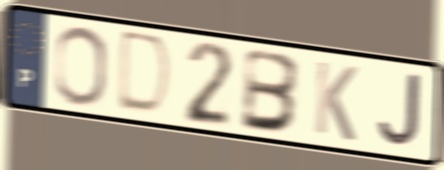2: (182, 39, 235, 129)
B: (238, 45, 305, 136)
D: (113, 27, 176, 120)
J: (375, 71, 423, 150)
K: (311, 57, 360, 145)
O: (52, 24, 109, 109)
